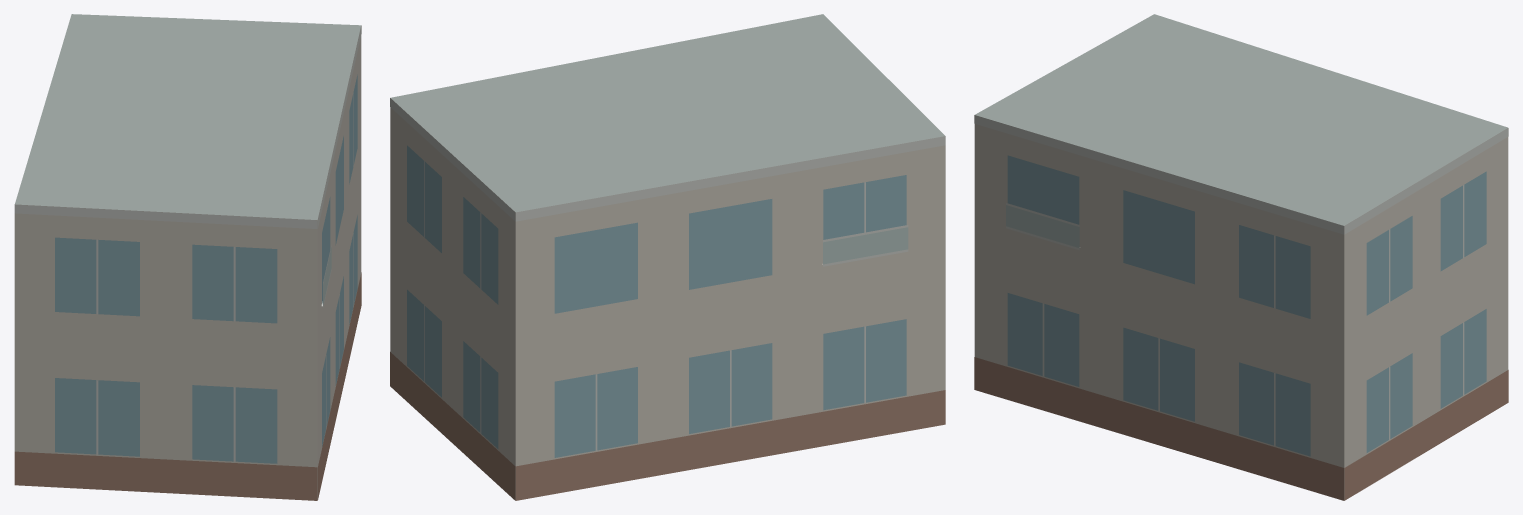
The model's file is survey-upis-32841804.glb.
3 views of the same model, side by side, from view 1: azimuth 30°, elevation 25°; view 2: azimuth 150°, elevation 25°; view 3: azimuth 270°, elevation 25° (orthographic). The views are drawn at different scales.
Visible parts, largest first — view 1: survey-upis-32841804.tmp; view 2: survey-upis-32841804.tmp; view 3: survey-upis-32841804.tmp.
Boxes of the visible parts, x1,y1,x2,y2 form: survey-upis-32841804.tmp: [14, 14, 361, 500]; survey-upis-32841804.tmp: [390, 14, 945, 500]; survey-upis-32841804.tmp: [974, 14, 1508, 500].
Size of the model in its own units: 12.58 by 7.6 by 13.39.
